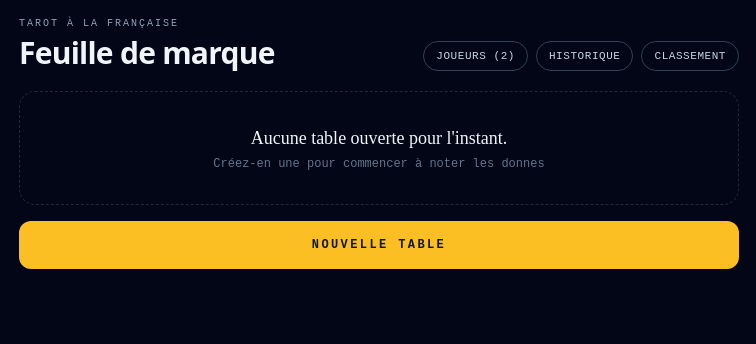
Écran de configuration du trombinoscope › fusionne deux joueurs qui n'ont jamais joué ensemble et propage le nom
The image size is (756, 344).
Expected: the heading "Feuille de marque" is shown, left=19, top=35, right=275, bottom=71
Click the link "Joueurs (2)" at (476, 56), box left=423, top=40, right=528, bottom=71
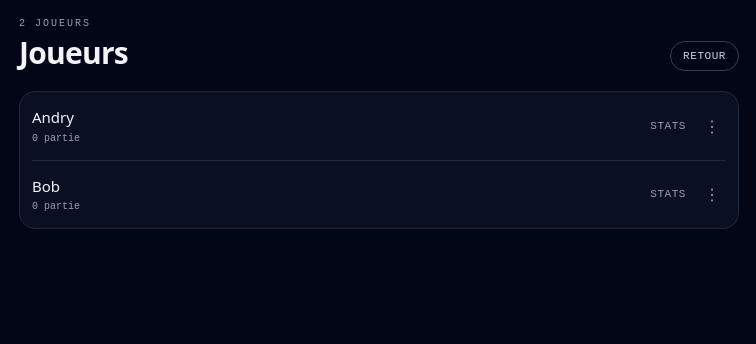
Now the heading "Joueurs" is shown, box left=19, top=35, right=128, bottom=71
Click the button named "Plus d'actions" at (712, 194), box left=698, top=180, right=726, bottom=208
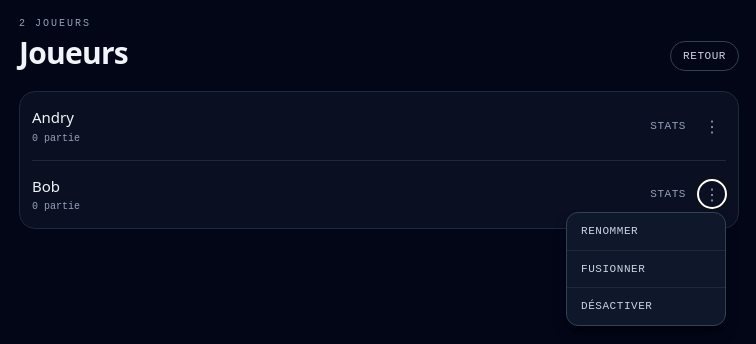
Click the button "Fusionner" at (646, 269), box left=567, top=250, right=725, bottom=287
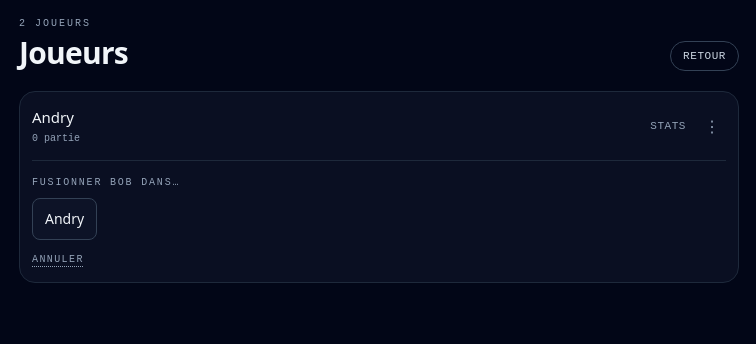
Click the button "Andry" at (65, 218), box left=32, top=198, right=97, bottom=240
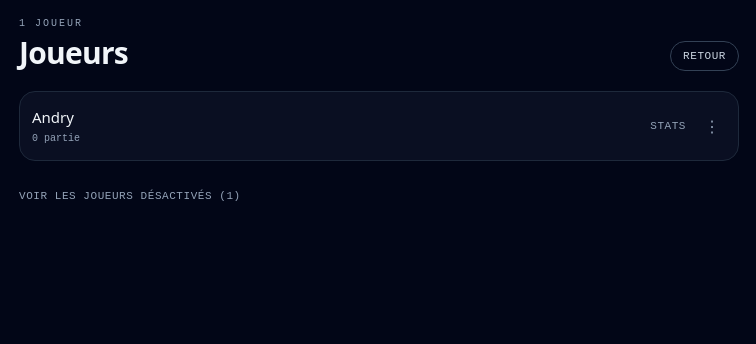
Now the elements with test id "roster-nom" read "Andry", in this order, box left=32, top=106, right=80, bottom=128
Note: ...et réapparaît dans les désactivés, avec la mention de la fusion.
Click the button "Voir les joueurs désactivés (1)" at (130, 196), box left=19, top=188, right=241, bottom=204
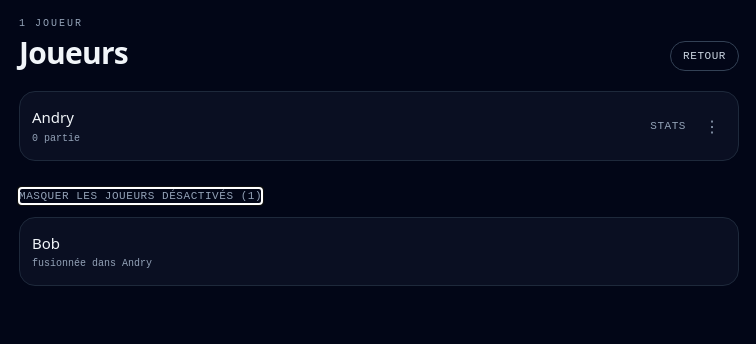
Now the text "fusionnée dans Andry" is shown, box left=32, top=256, right=152, bottom=271
